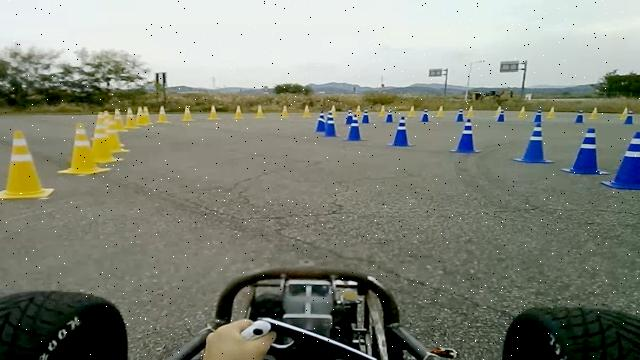blue cone: (561, 127, 611, 175), (600, 131, 640, 190), (512, 120, 555, 164), (450, 119, 483, 154), (387, 115, 417, 147), (343, 121, 366, 141), (323, 112, 339, 138), (314, 110, 327, 132), (345, 109, 355, 125)
yellow cone: (0, 130, 55, 200), (58, 122, 117, 176), (108, 111, 130, 153), (125, 107, 139, 129), (157, 105, 171, 124), (136, 106, 149, 126), (182, 106, 195, 121), (208, 105, 220, 120), (234, 105, 244, 119), (143, 106, 151, 123), (256, 105, 265, 118), (281, 105, 290, 118)
